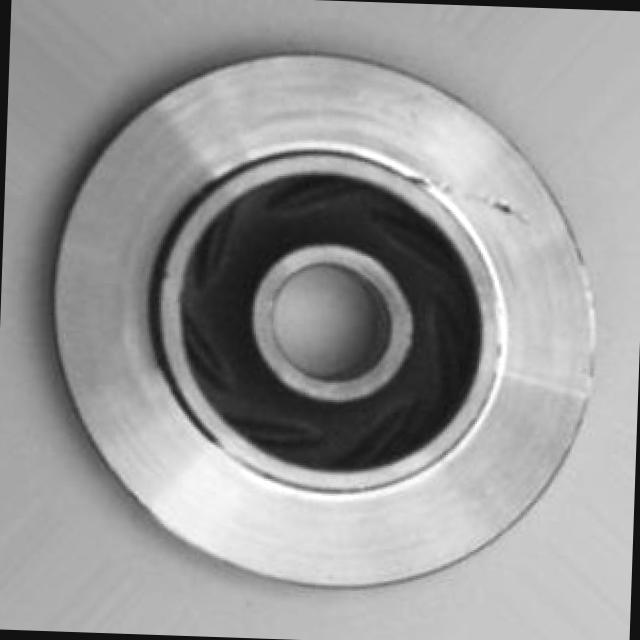Defect: (484, 189, 526, 230)
